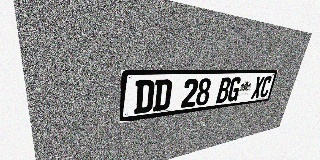2: (181, 78, 199, 108)
8: (195, 78, 213, 106)
B: (216, 77, 232, 103)
C: (259, 76, 273, 98)
D: (134, 80, 155, 114), (153, 79, 173, 112)
G: (226, 77, 242, 102)
X: (251, 76, 265, 99)
